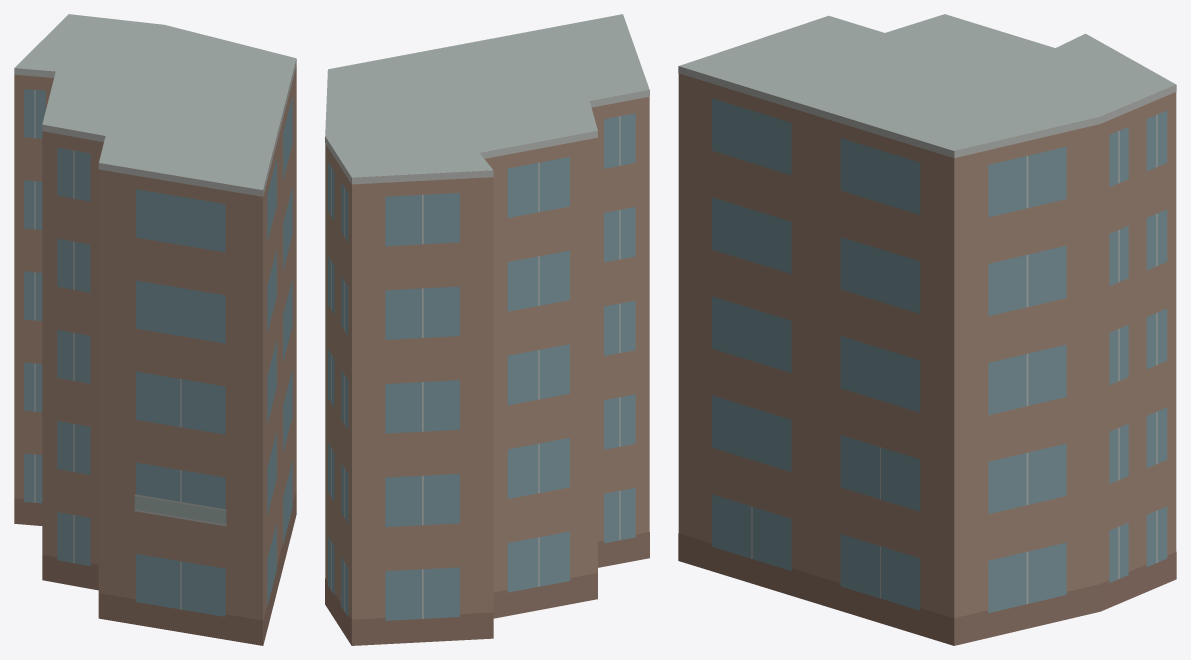
Rendered from survey-upis-32773971.glb.
The picture shows the model from 3 angles, left to right: view 1: azimuth 30°, elevation 25°; view 2: azimuth 150°, elevation 25°; view 3: azimuth 270°, elevation 25°; orthographic projection. The views are drawn at different scales.
Parts seen in each view (by area): view 1: survey-upis-32773971.tmp; view 2: survey-upis-32773971.tmp; view 3: survey-upis-32773971.tmp.
Part boxes in pixels (bbox=[...]): survey-upis-32773971.tmp: bbox=[14, 14, 296, 645]; survey-upis-32773971.tmp: bbox=[325, 14, 649, 645]; survey-upis-32773971.tmp: bbox=[678, 14, 1176, 645].
Bounding box in the file's own units: 9.99 × 16.8 × 15.33.
